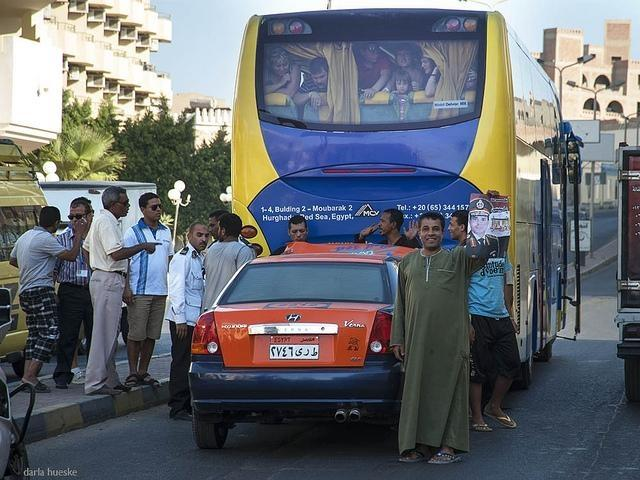bus: (231, 10, 587, 382)
car: (192, 254, 407, 444)
